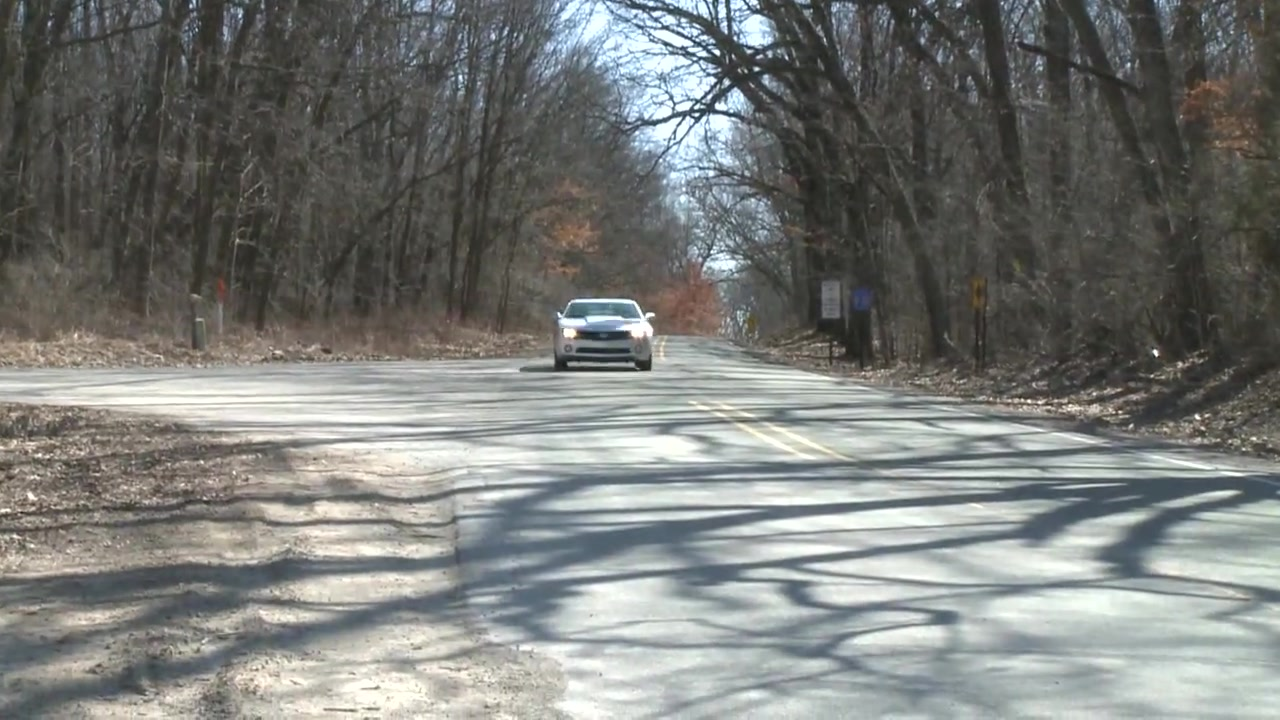car: (548, 293, 663, 372)
